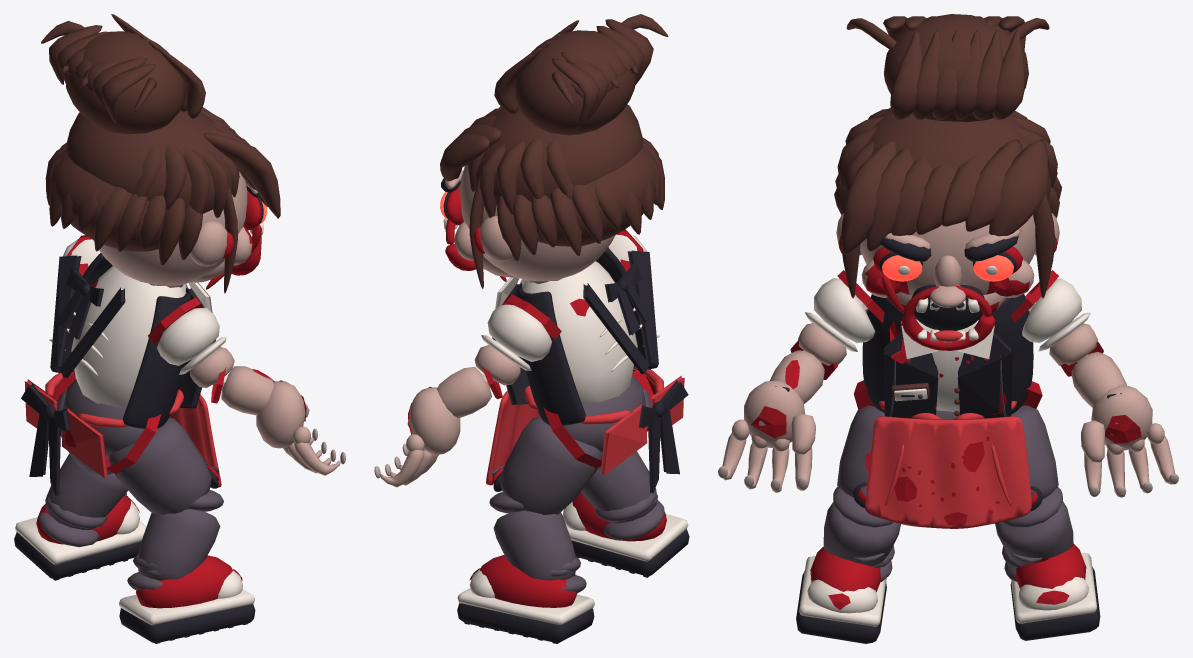
The model's file is inf.cashier.glb.
The picture shows the model from 3 angles, left to right: view 1: azimuth 30°, elevation 25°; view 2: azimuth 150°, elevation 25°; view 3: azimuth 270°, elevation 25°; orthographic projection. The views are drawn at different scales.
Visible parts, largest first — view 1: head, torso, hip, footR, legR, footL, shinR, shinL, armR, handR, foreArmR, stump_legR (+2 smaller); view 2: head, torso, hip, footL, legL, shinL, footR, shinR, armL, handL, foreArmL, stump_legL (+2 smaller); view 3: head, hip, torso, handR, handL, footR, footL, armR, shinR, armL, shinL, legR (+3 smaller).
Part boxes in pixels (<box>): head: <box>41,14,280,293</box>; torso: <box>49,253,216,428</box>; hip: <box>21,370,221,496</box>; footR: <box>119,555,255,643</box>; legR: <box>108,417,219,514</box>; footL: <box>14,496,146,580</box>; shinR: <box>127,489,223,590</box>; shinL: <box>38,453,127,547</box>; armR: <box>157,307,234,387</box>; handR: <box>256,381,345,475</box>; foreArmR: <box>221,366,283,415</box>; stump_legR: <box>106,414,161,473</box>; head: <box>440,14,668,288</box>; torso: <box>492,248,659,425</box>; hip: <box>486,366,688,493</box>; footL: <box>457,555,594,643</box>; legL: <box>492,416,602,514</box>; shinL: <box>489,492,586,592</box>; footR: <box>562,492,689,577</box>; shinR: <box>581,451,664,540</box>; armL: <box>474,304,551,385</box>; handL: <box>374,387,460,487</box>; foreArmL: <box>424,366,491,418</box>; stump_legL: <box>543,407,602,468</box>; head: <box>834,14,1061,350</box>; hip: <box>865,401,1031,528</box>; torso: <box>862,294,1033,418</box>; handR: <box>718,380,815,492</box>; handL: <box>1081,385,1178,497</box>; footR: <box>796,546,886,643</box>; footL: <box>1010,544,1100,640</box>; armR: <box>798,278,875,365</box>; shinR: <box>823,486,900,581</box>; armL: <box>1022,278,1097,365</box>; shinL: <box>995,487,1073,581</box>; legR: <box>837,405,884,508</box>.
Bounding box in the file's own units: 0.7375 × 1.8 × 1.27.
